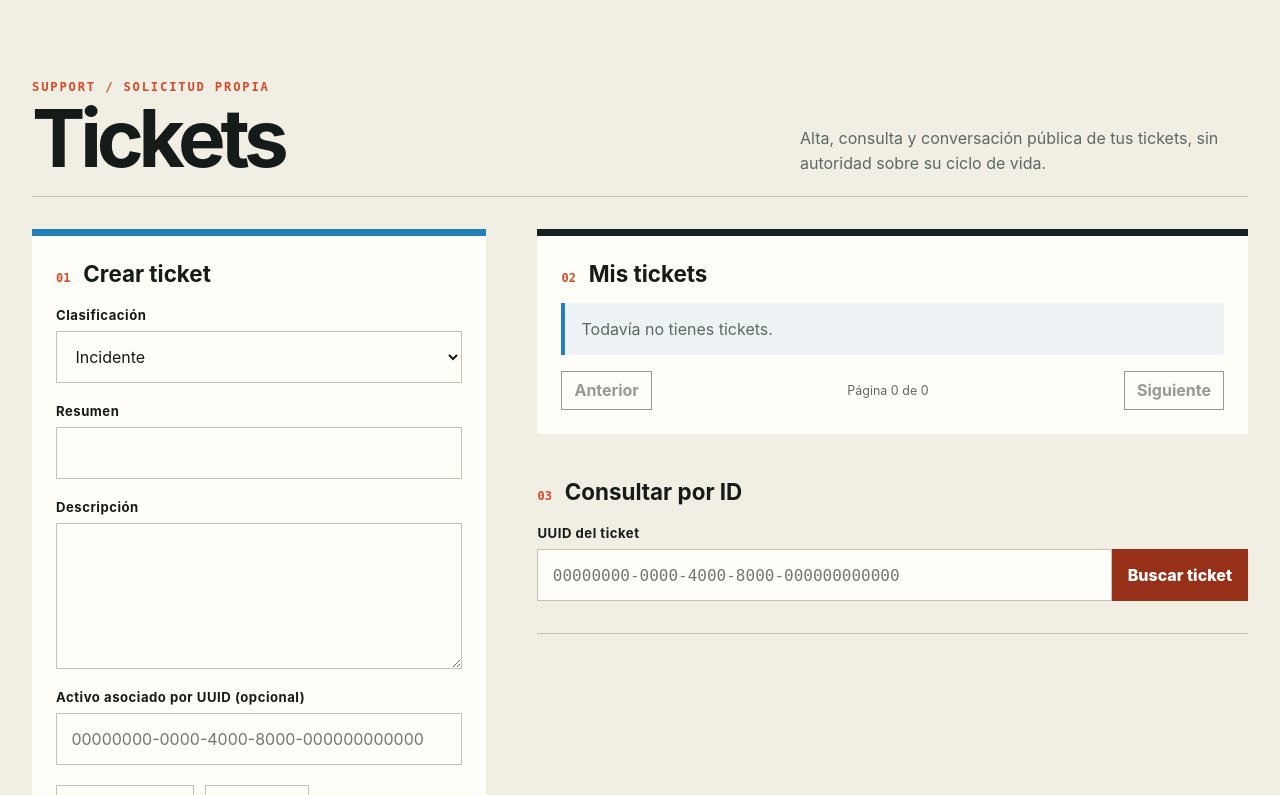
Test case: TicketWorkspace › creates an associated ticket with in-memory CSRF and refreshes the owned list
Expected: the text "Todavía no tienes tickets." is shown, x1=562 y1=303 x2=1224 y2=355
Type "Printer unavailable" into the field labelled "Resumen" at (259, 453), box x1=56 y1=427 x2=462 y2=479
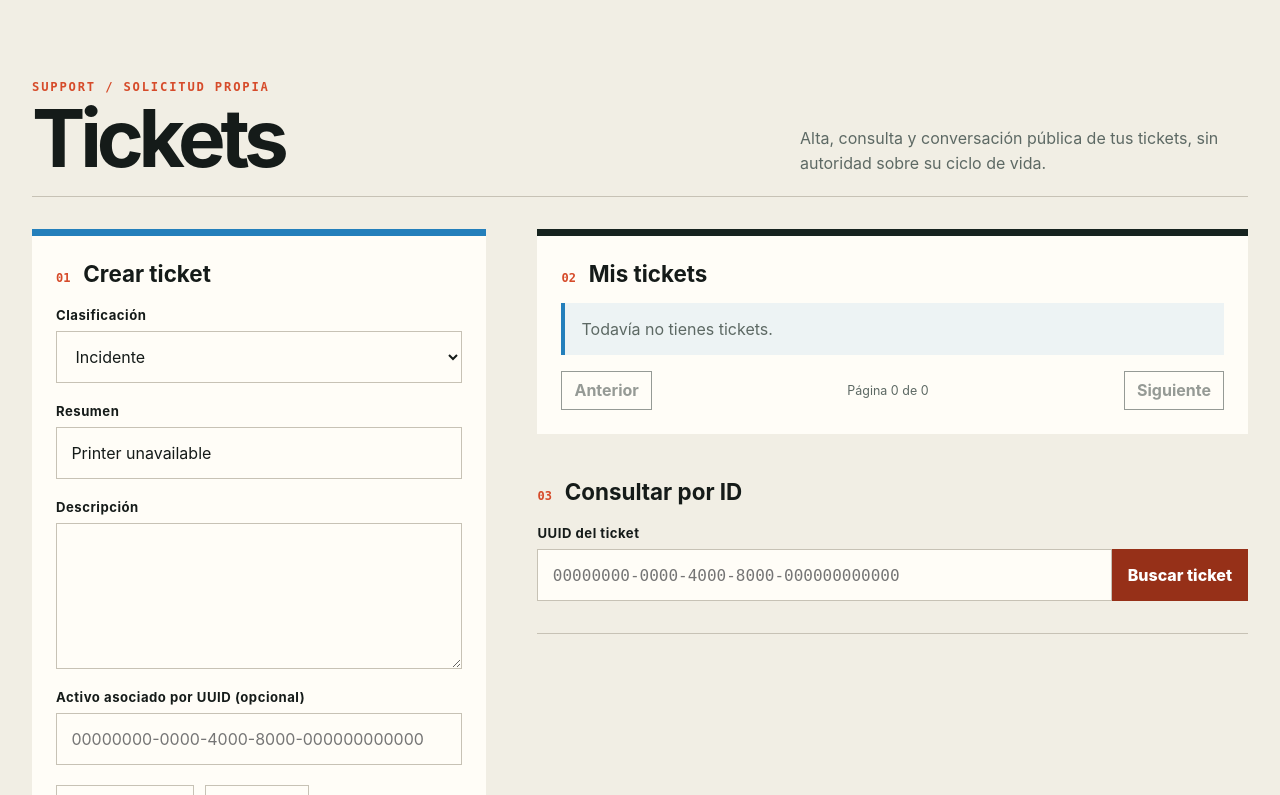
Type "The reception printer is offline." into the text box labelled "Descripción" at (259, 596), box x1=56 y1=523 x2=462 y2=669
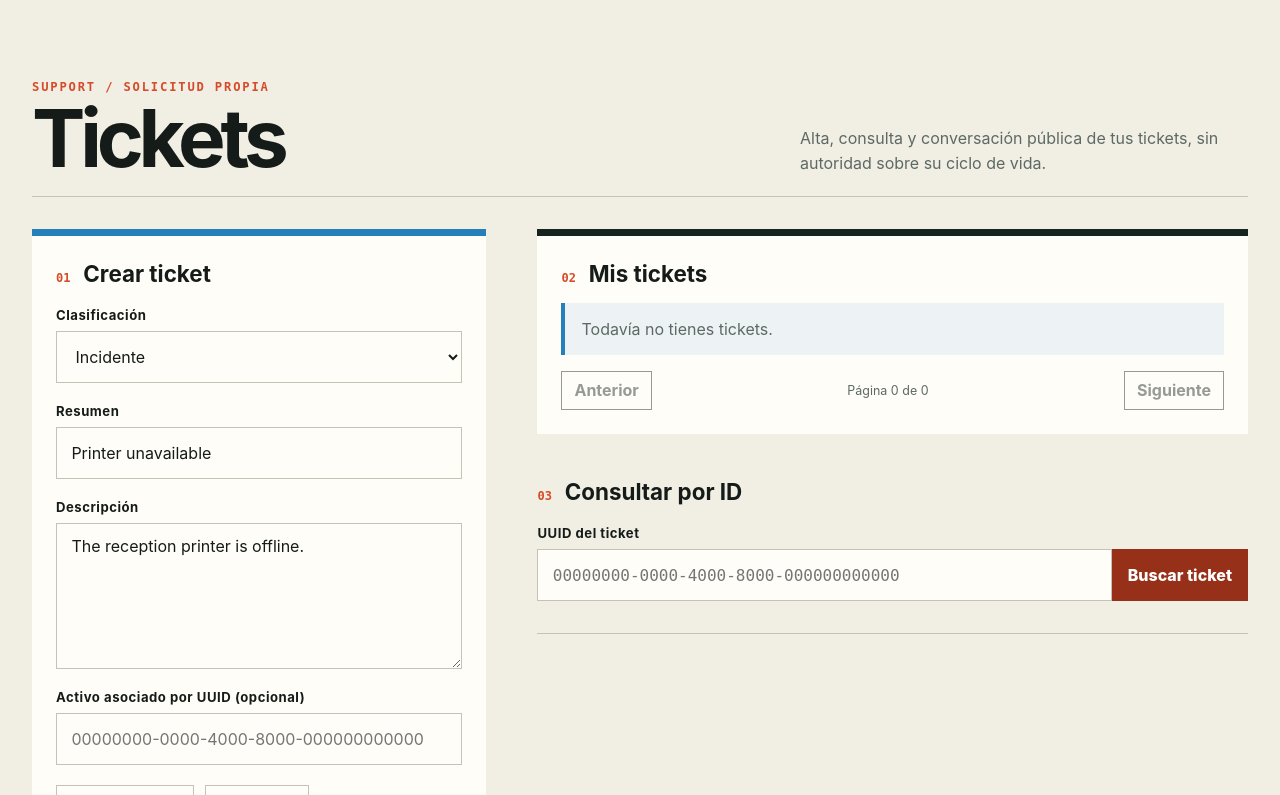
Type "0b2b7ee9-017e-4d62-83e0-87056735e71e" into the field labelled "Activo asociado por UUID (opcional)" at (259, 739), box x1=56 y1=713 x2=462 y2=765
(page scrolled)
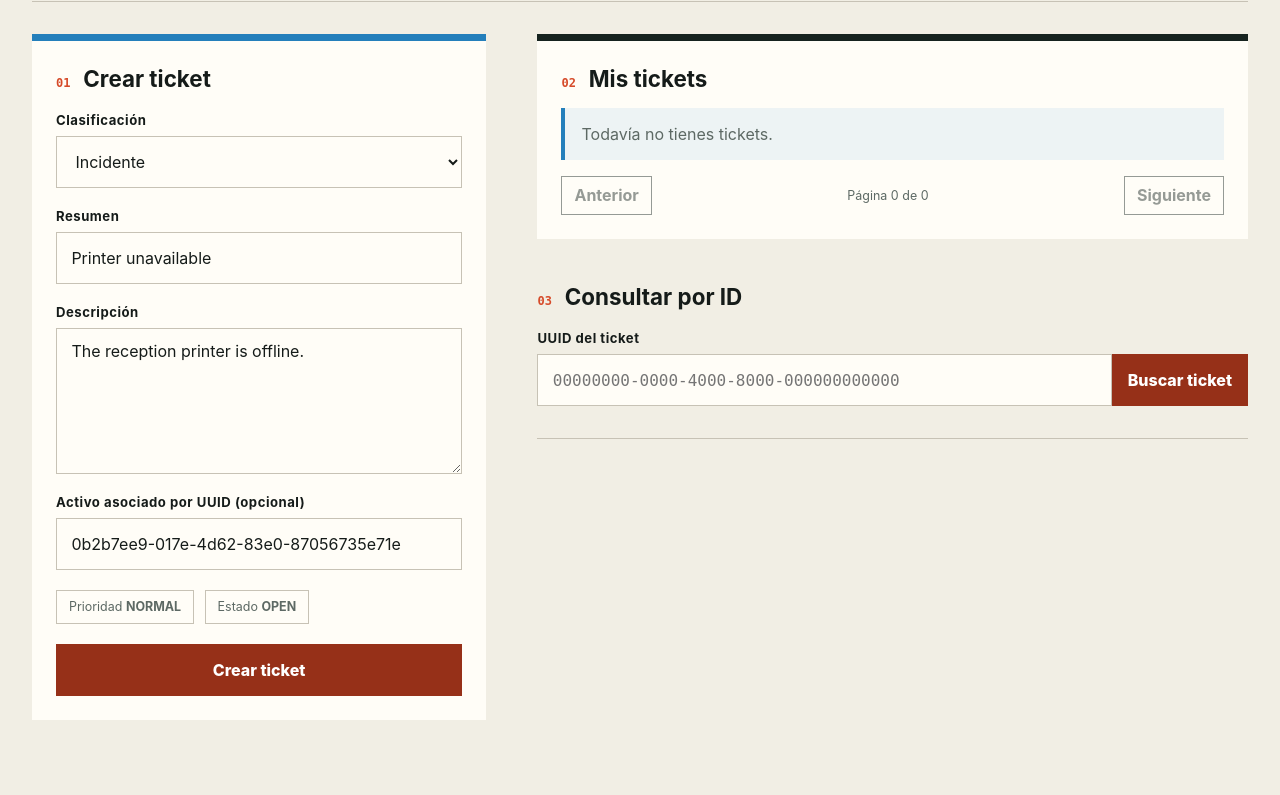
Click the button "Crear ticket" at (259, 670), box x1=56 y1=644 x2=462 y2=696
(page scrolled)
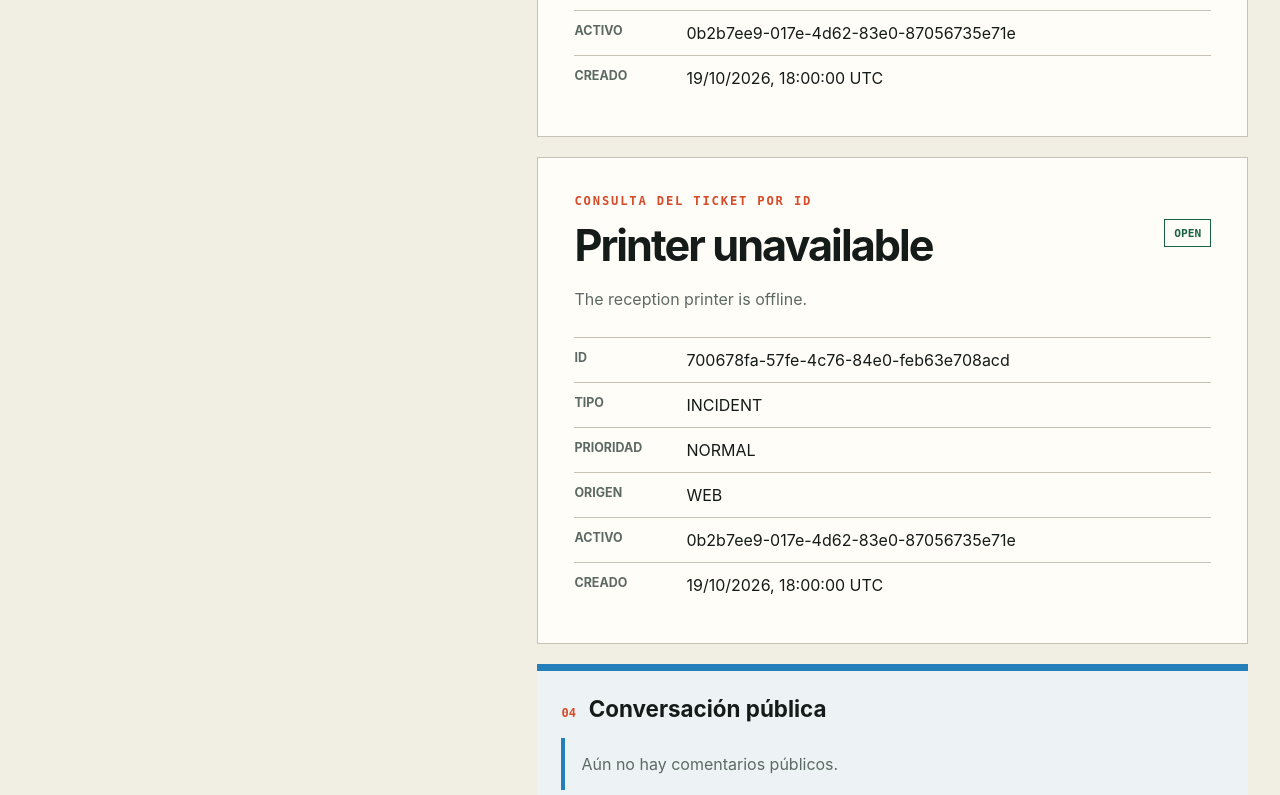
Now the element "Consulta del ticket por ID" is shown, box x1=538 y1=157 x2=1248 y2=644
